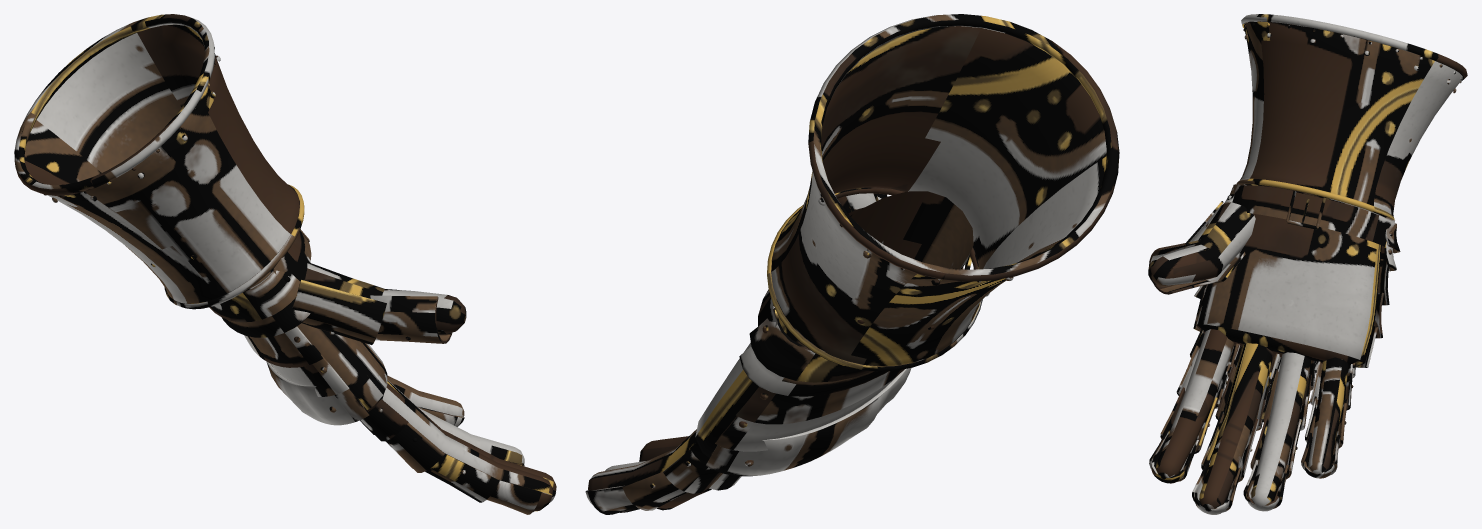
Rendered from SM_EagleGauntlets_L.fbx.
3 views of the same model, side by side, from view 1: azimuth 30°, elevation 25°; view 2: azimuth 150°, elevation 25°; view 3: azimuth 270°, elevation 25° (orthographic). The views are drawn at different scales.
Parts seen in each view (by area): view 1: SM_EagleGauntlets_L; view 2: SM_EagleGauntlets_L; view 3: SM_EagleGauntlets_L.
Boxes of the visible parts, x1,y1,x2,y2 form: SM_EagleGauntlets_L: [14, 14, 556, 514]; SM_EagleGauntlets_L: [585, 14, 1119, 514]; SM_EagleGauntlets_L: [1148, 14, 1467, 514].
Size of the model in its own units: 0.2577 by 0.2735 by 0.202.
